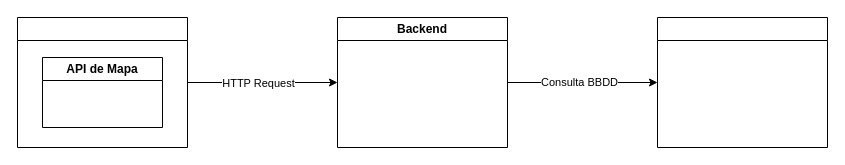
Some shapes in this 845 by 165 pixel diagram are drawn without their labels. The box of each missing label's shape, as (x1, y1, x2, y2) in pixels:
Base de Datos: (656, 16, 828, 148)
Interface de Usuario: (16, 16, 188, 148)
